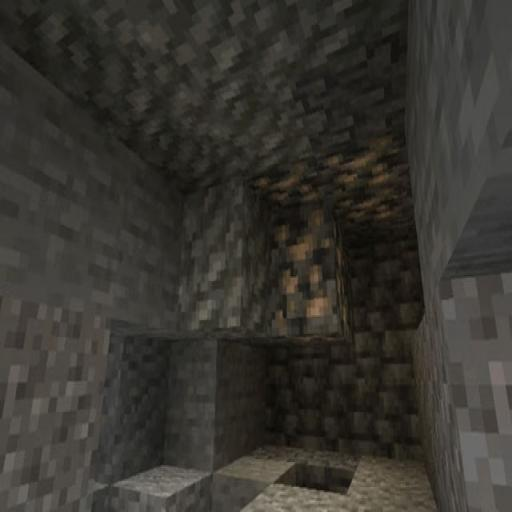iron ore: (260, 152, 411, 367)
